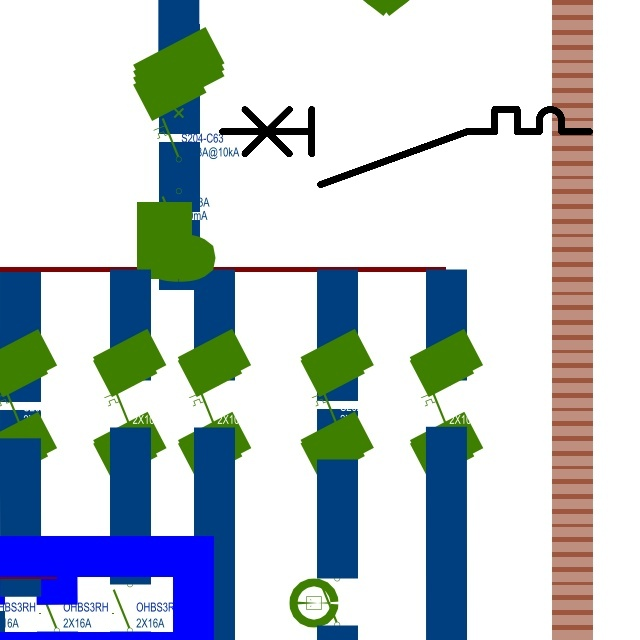interruptor_termomagnetico: (213, 100, 599, 194)
